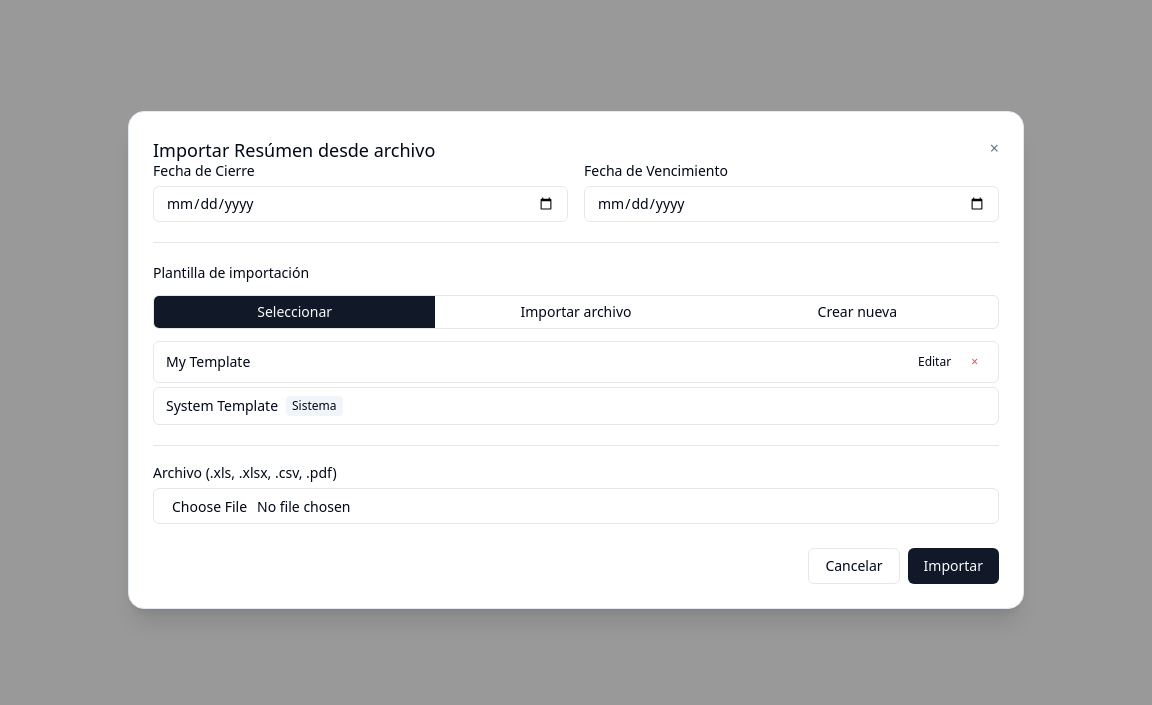
Test: ImportStatementModal › installment pattern picker › shows the inline new-pattern form when clicking + Nuevo patrón
The image size is (1152, 705).
Expected: the text "My Template" is shown, [166,352,250,372]
Step 1. Click the button "Crear nueva" → point(857, 312), box [717,296,998,328]
(page scrolled)
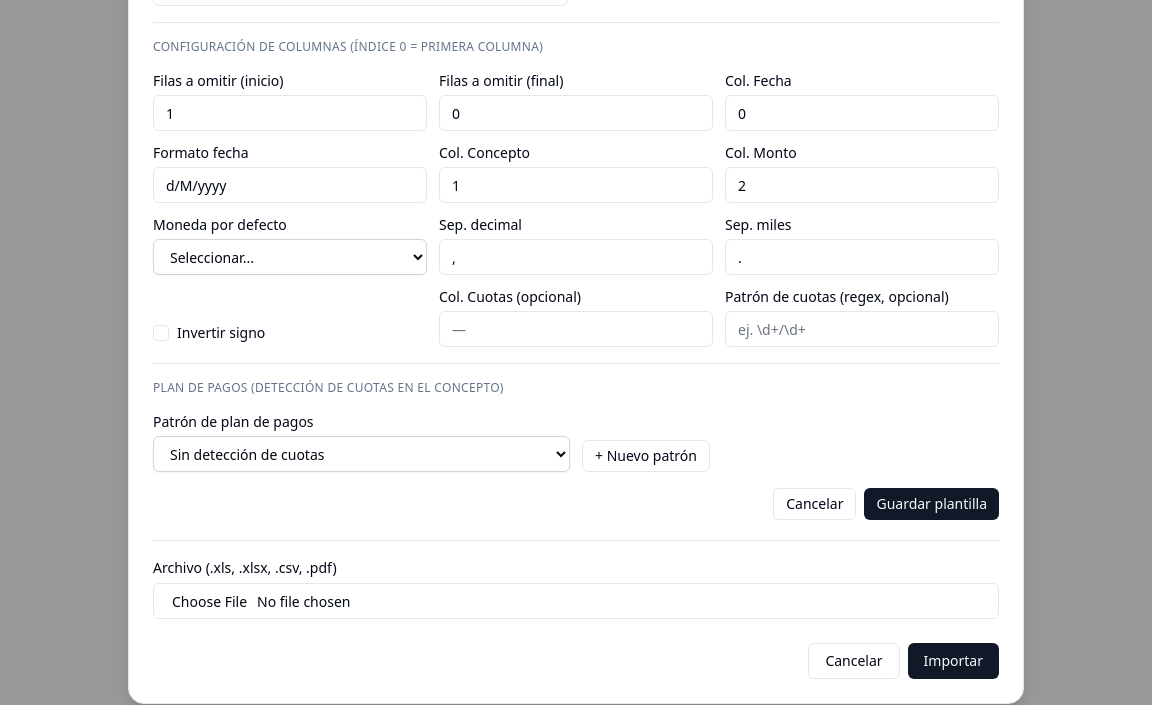
Step 2. Click the button "+ Nuevo patrón" → point(646, 456), box [582,440,710,472]
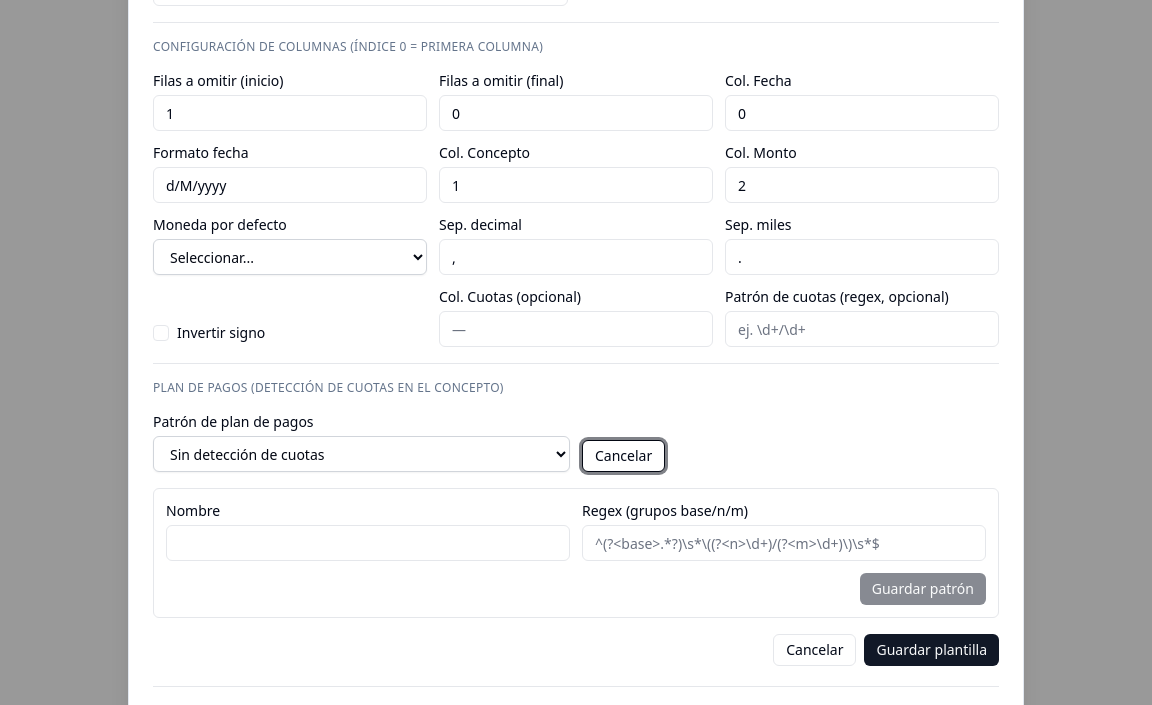
Now the button "Guardar patrón" is shown, box [860,573,986,605]
